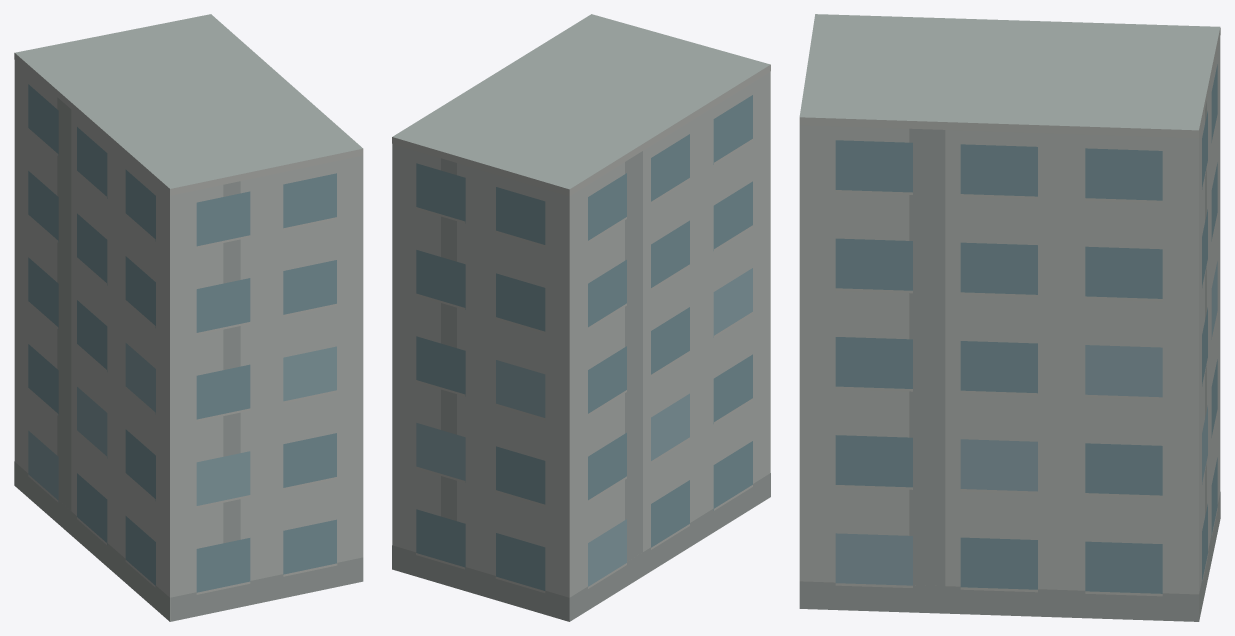
The model's file is survey-upis-32768958.glb.
3 renders of one model, left to right at view 1: azimuth 30°, elevation 25°; view 2: azimuth 150°, elevation 25°; view 3: azimuth 270°, elevation 25°, orthographic. The views are drawn at different scales.
Parts seen in each view (by area): view 1: survey-upis-32768958.tmp; view 2: survey-upis-32768958.tmp; view 3: survey-upis-32768958.tmp.
Part boxes in pixels (x1=…): survey-upis-32768958.tmp: x1=14, y1=14, x2=363, y2=621; survey-upis-32768958.tmp: x1=392, y1=14, x2=770, y2=621; survey-upis-32768958.tmp: x1=799, y1=14, x2=1220, y2=621.
Bounding box in the file's own units: 7.75 × 15.25 × 11.85.
